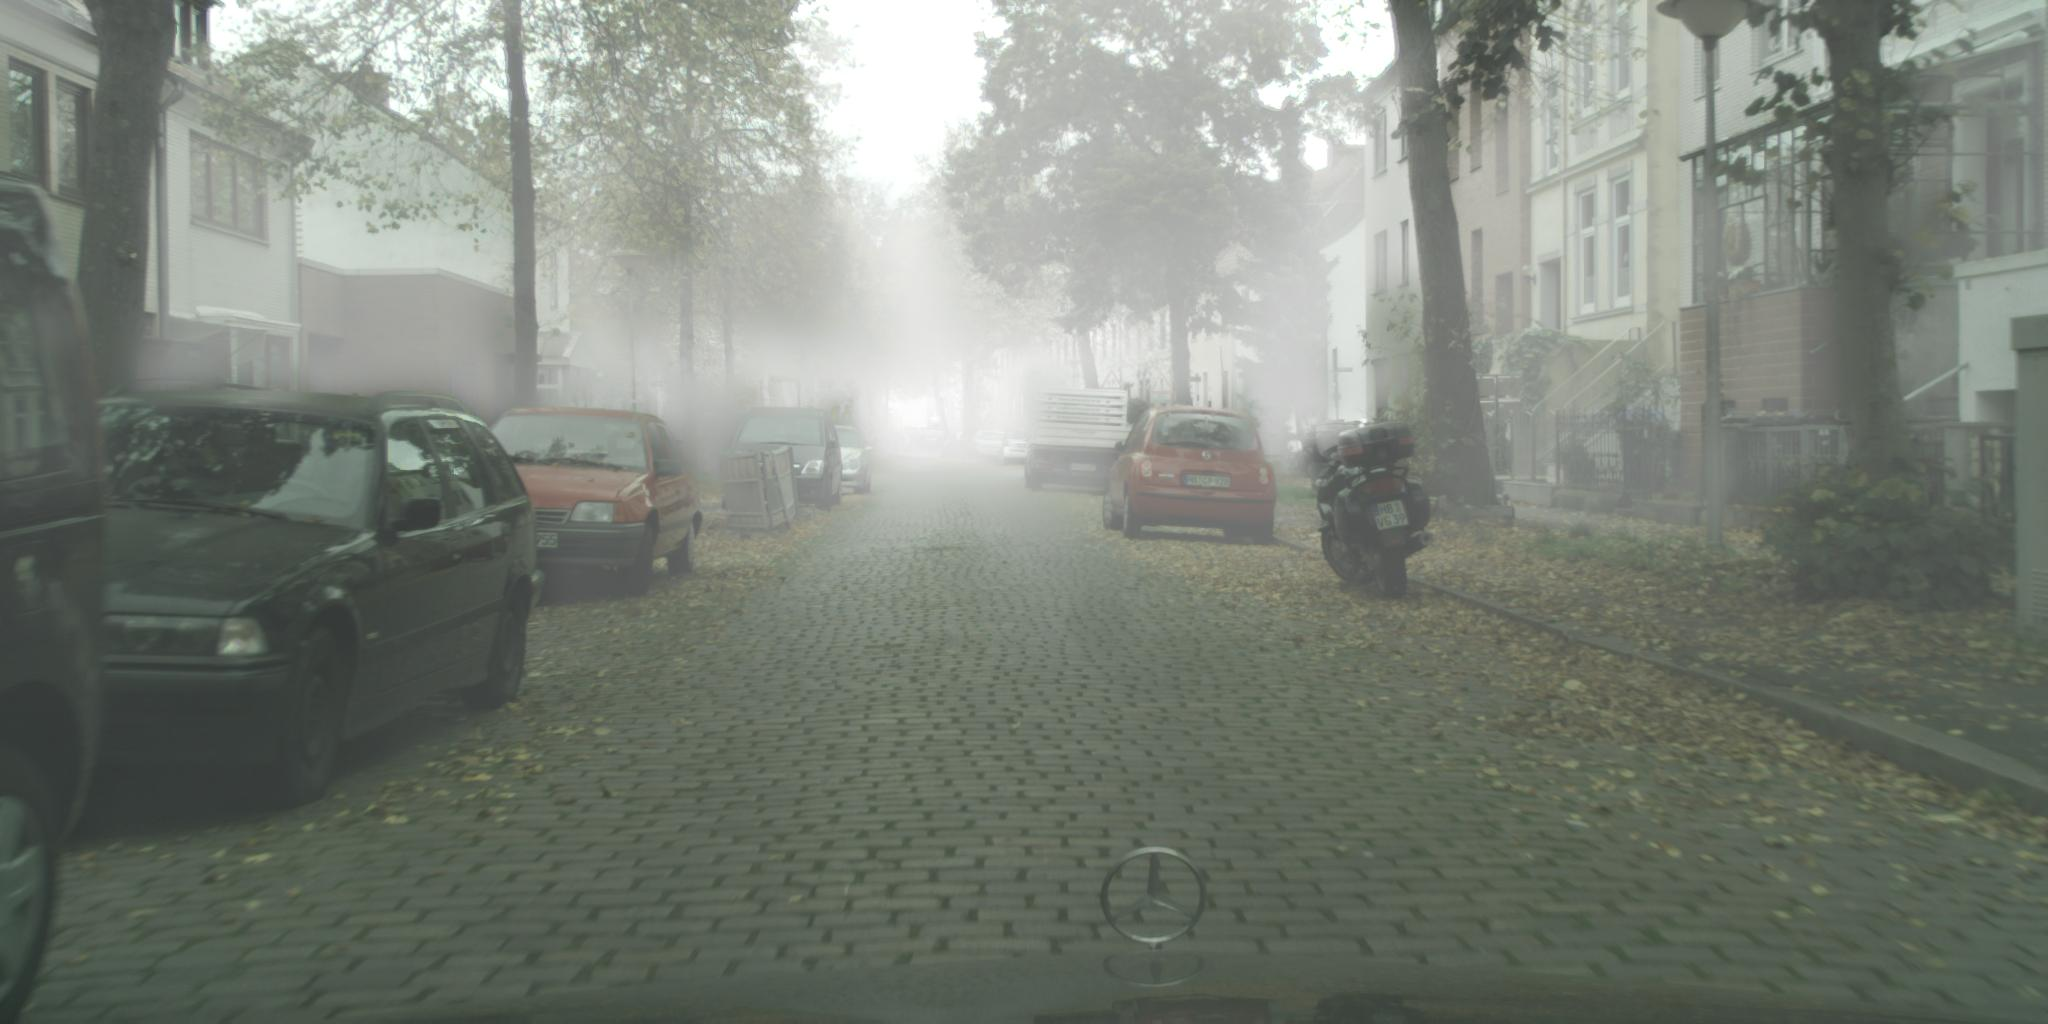car: (60, 380, 546, 808), (1, 167, 106, 1024), (488, 408, 705, 597), (1102, 405, 1280, 547), (722, 408, 844, 515), (819, 424, 875, 495)
motorcycle: (1307, 421, 1435, 600)
truck: (1025, 387, 1142, 494)
